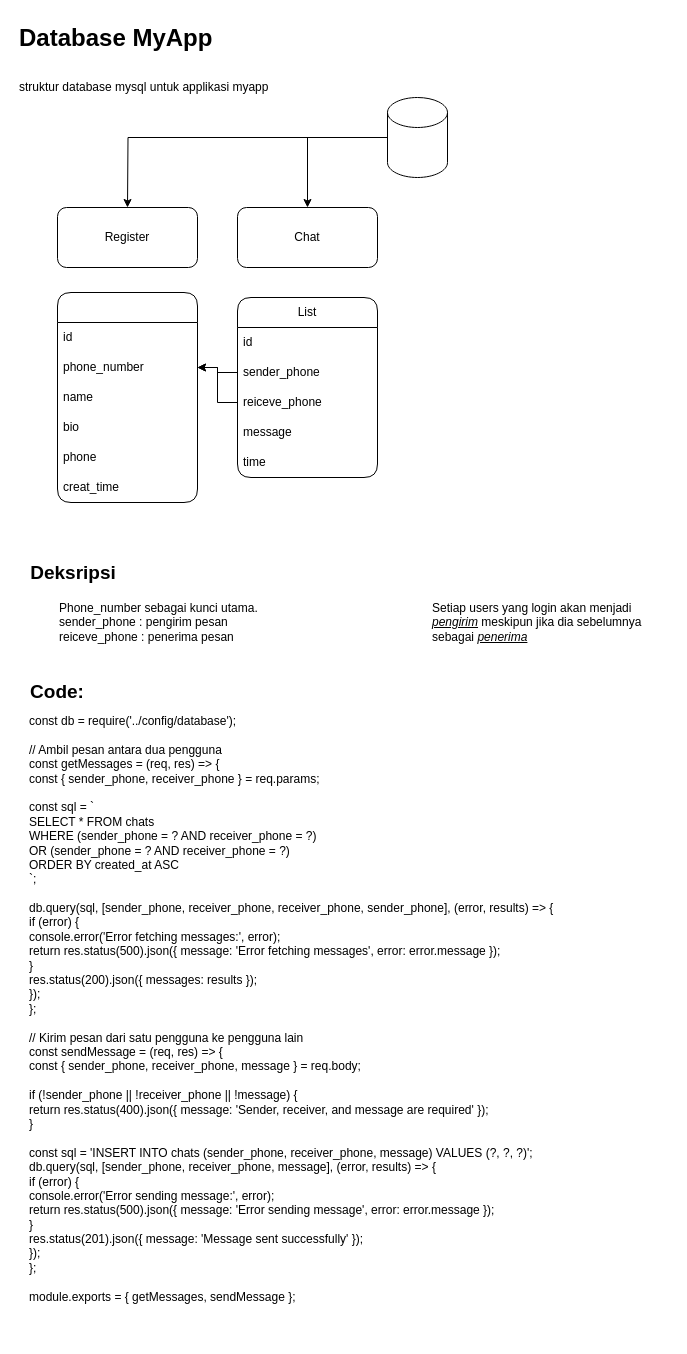
This 687x1354 diagram has some shape labels left out. Each missing label, with the box of its shape:
Chatapp: (386, 96, 448, 178)
Users: (56, 292, 198, 502)
